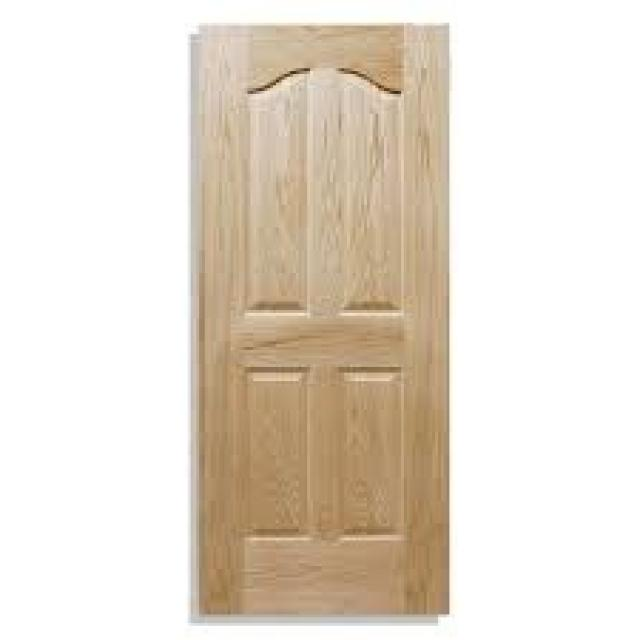door: (189, 21, 451, 619)
